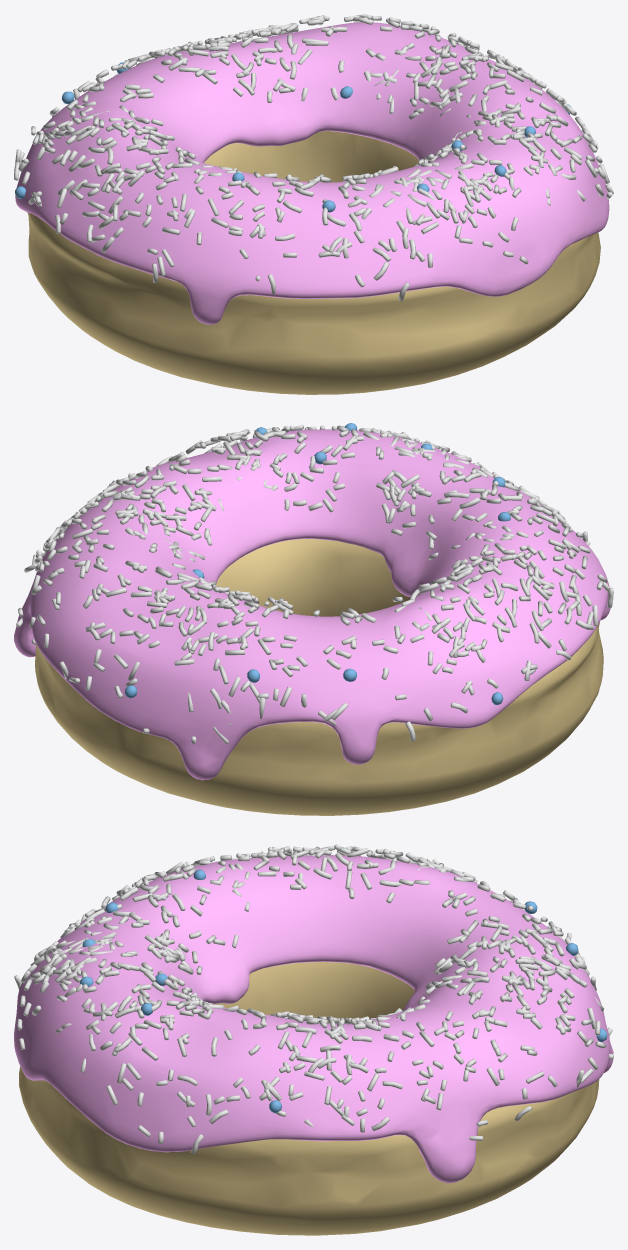
File: Donut.fbx
3 renders of one model, top to bottom at view 1: azimuth 30°, elevation 25°; view 2: azimuth 150°, elevation 25°; view 3: azimuth 270°, elevation 25°, orthographic. The views are drawn at different scales.
Visible parts, largest first — view 1: Icing.001, Donut, Sprinkle long.016; view 2: Icing.001, Donut, Sprinkle long.016; view 3: Icing.001, Donut, Sprinkle long.016.
Boxes of the visible parts, x1,y1,x2,y2 form: Icing.001: [15, 22, 609, 324]; Donut: [27, 131, 600, 394]; Sprinkle long.016: [14, 14, 613, 301]; Icing.001: [14, 429, 610, 780]; Donut: [35, 539, 603, 815]; Sprinkle long.016: [16, 423, 613, 744]; Icing.001: [14, 855, 613, 1183]; Donut: [19, 962, 599, 1235]; Sprinkle long.016: [14, 844, 613, 1153].
Size of the model in its own units: 14.87 by 5.77 by 15.03.
